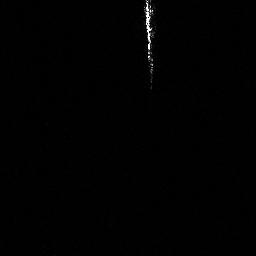ship: (140, 1, 160, 90)
